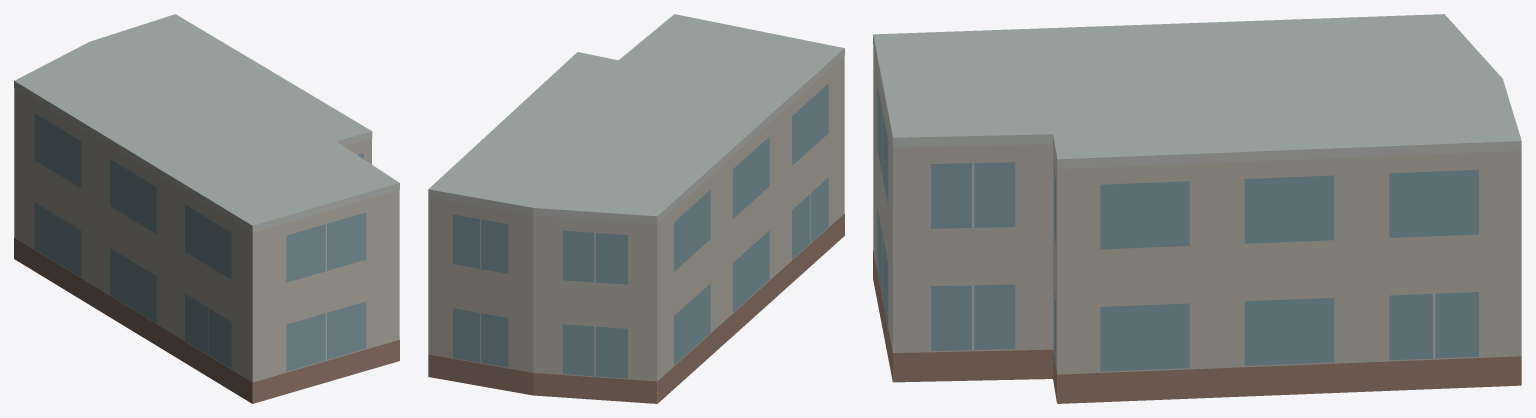
The model's file is survey-upis-32989077.glb.
3 views of the same model, side by side, from view 1: azimuth 30°, elevation 25°; view 2: azimuth 150°, elevation 25°; view 3: azimuth 270°, elevation 25° (orthographic). The views are drawn at different scales.
Visible parts, largest first — view 1: survey-upis-32989077.tmp; view 2: survey-upis-32989077.tmp; view 3: survey-upis-32989077.tmp.
Boxes of the visible parts, x1=… form: survey-upis-32989077.tmp: x1=14, y1=14, x2=399, y2=403; survey-upis-32989077.tmp: x1=428, y1=14, x2=844, y2=403; survey-upis-32989077.tmp: x1=873, y1=14, x2=1521, y2=403.
Size of the model in its own units: 7.78 by 6.1 by 14.67.
